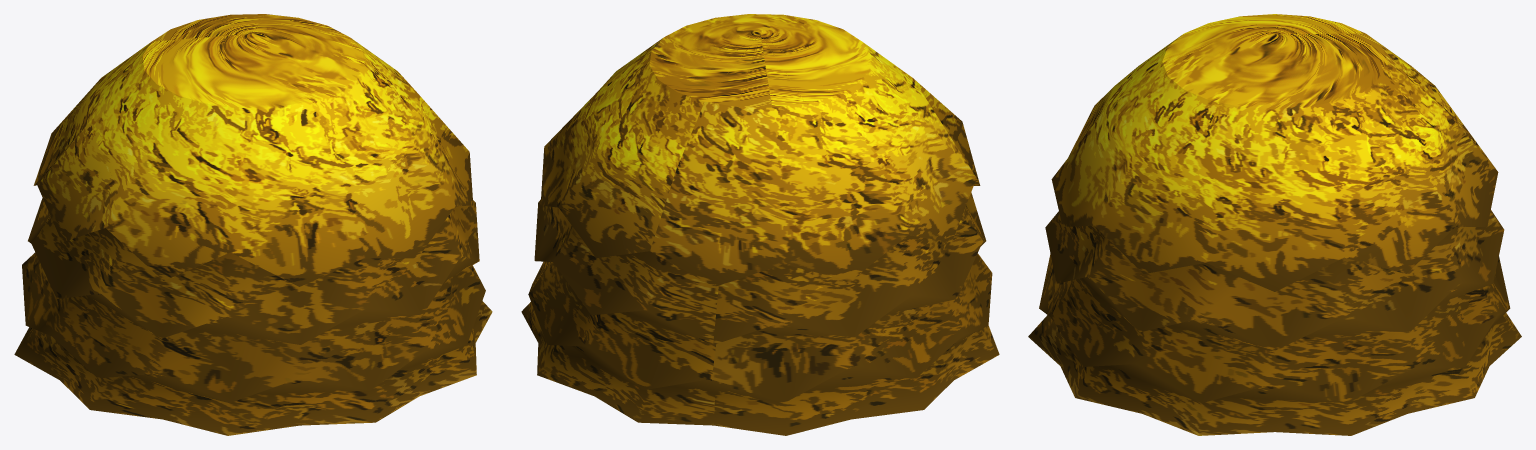
Rendered from haybale.fbx.
3 renders of one model, left to right at view 1: azimuth 30°, elevation 25°; view 2: azimuth 150°, elevation 25°; view 3: azimuth 270°, elevation 25°, orthographic.
Visible parts, largest first — view 1: pCylinder1; view 2: pCylinder1; view 3: pCylinder1.
Boxes of the visible parts, x1,y1,x2,y2 form: pCylinder1: [14, 14, 492, 435]; pCylinder1: [521, 14, 999, 435]; pCylinder1: [1028, 14, 1521, 435].
Bounding box in the file's own units: 230 × 163 × 241.
